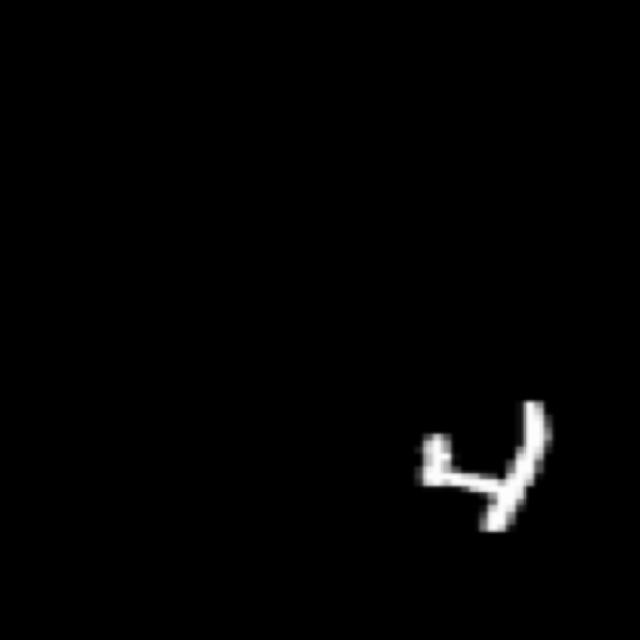four -4-: (407, 388, 565, 560)
